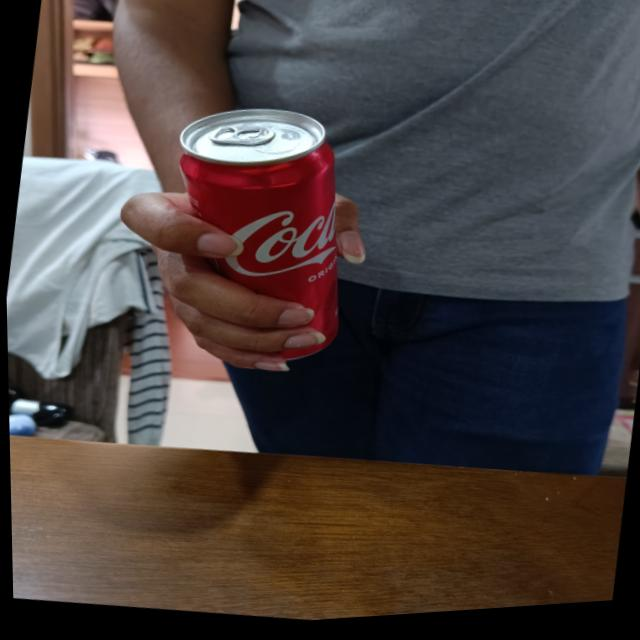coke: (145, 93, 371, 383)
